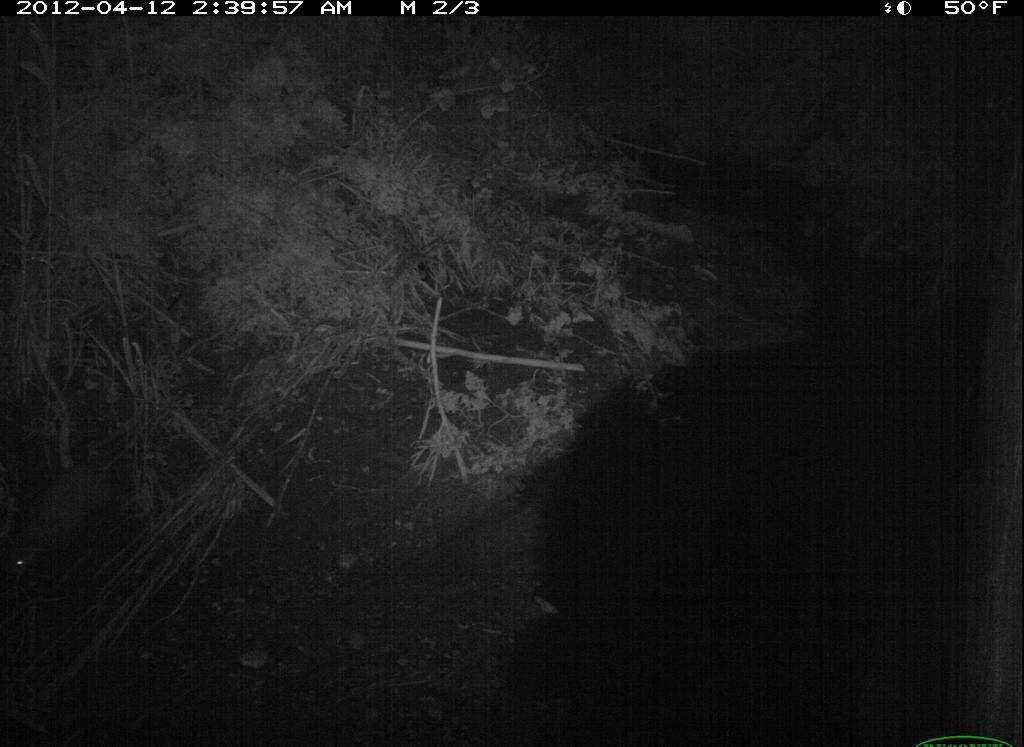opossum: (3, 413, 156, 587)
